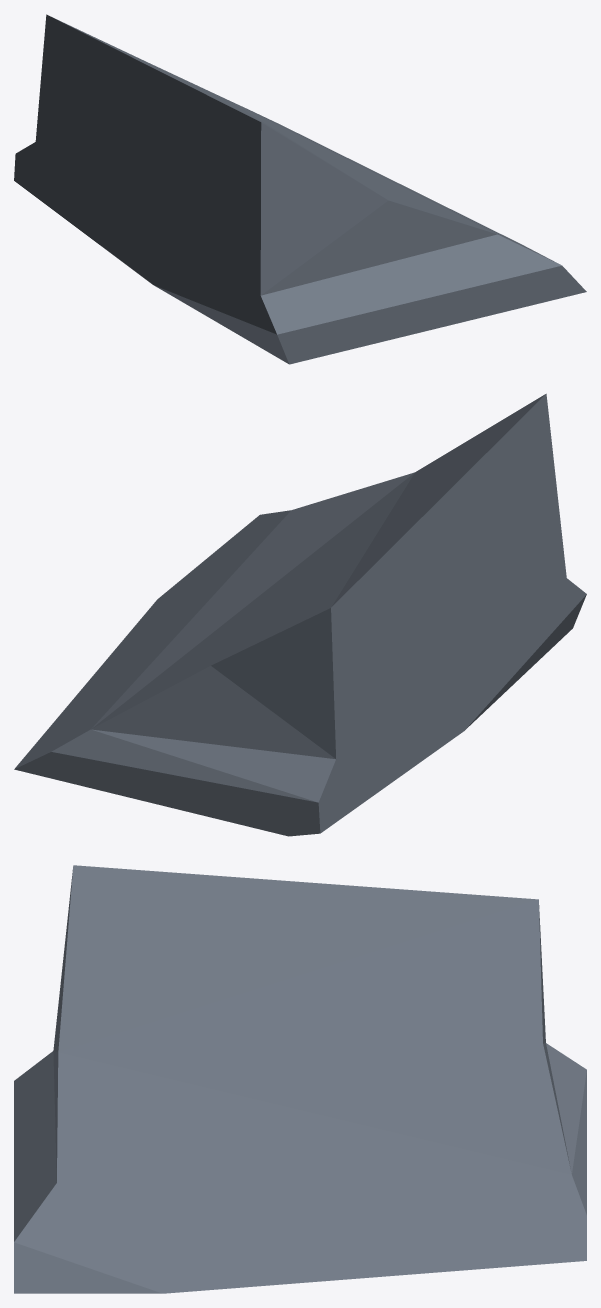
Rendered from WallPiece4.fbx.
3 views of the same model, one above another, from view 1: azimuth 30°, elevation 25°; view 2: azimuth 150°, elevation 25°; view 3: azimuth 270°, elevation 25° (orthographic). The views are drawn at different scales.
Visible parts, largest first — view 1: WallPiece4; view 2: WallPiece4; view 3: WallPiece4.
Boxes of the visible parts, box(x1,y1,x2,y2) form: WallPiece4: box(14, 14, 586, 364); WallPiece4: box(14, 393, 586, 836); WallPiece4: box(14, 865, 586, 1293).
Size of the model in its own units: 90.94 by 59.89 by 120.
